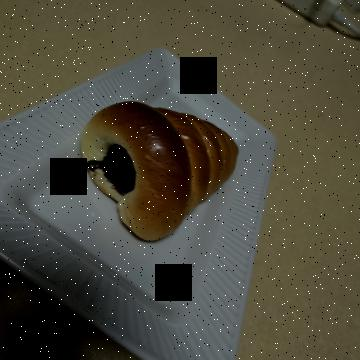cream horn: (97, 118, 261, 294)
